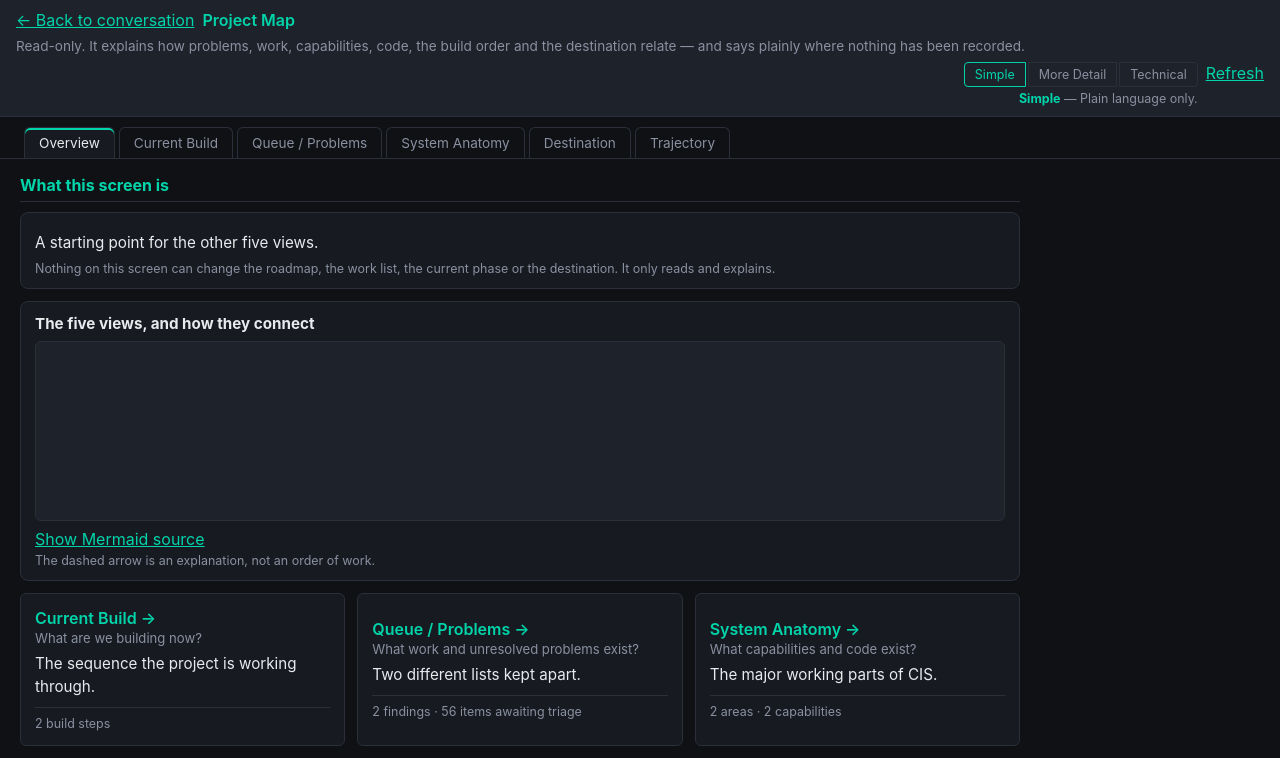
Test case: ProjectMap — Destination area reuses the Destination view › keeps the destination marked not activated
Step 1. Click the tab "Destination" → (580, 142), box [529, 127, 631, 158]
(page scrolled)
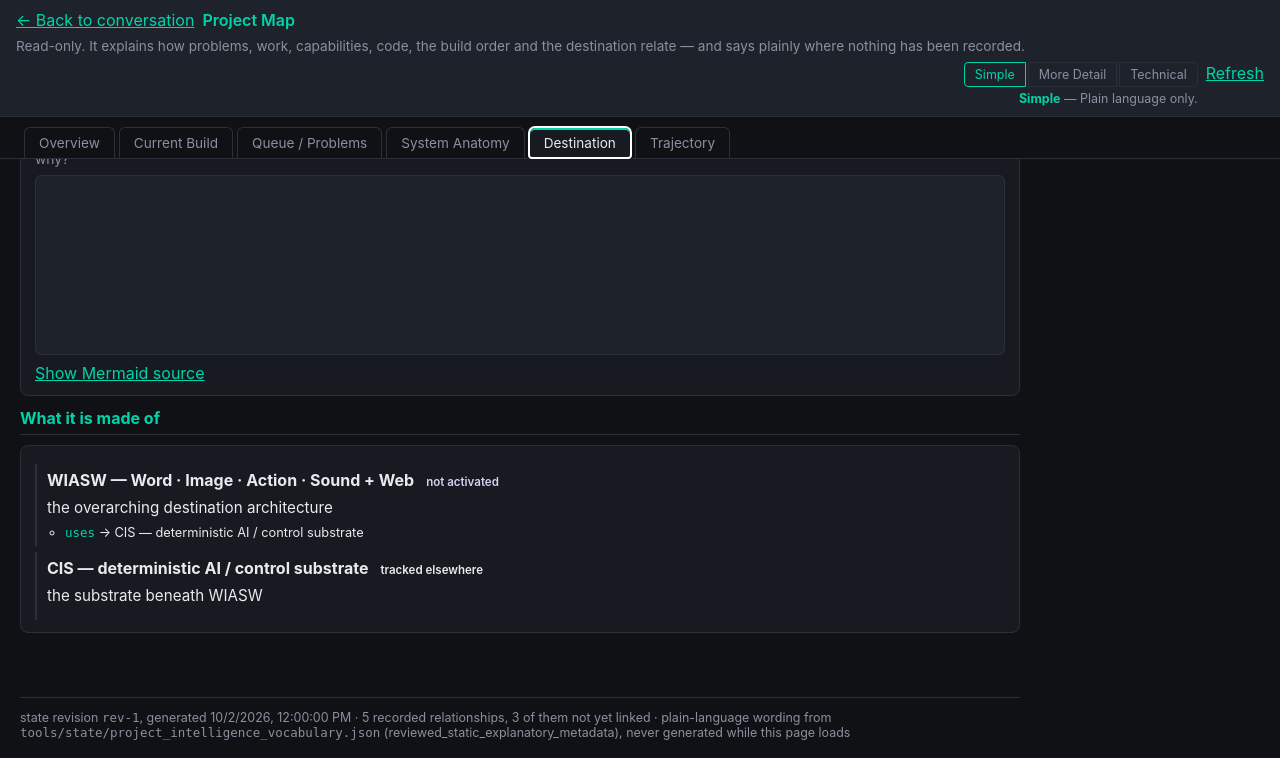
Expected: the text "not activated" is shown, [420, 474, 505, 490]
